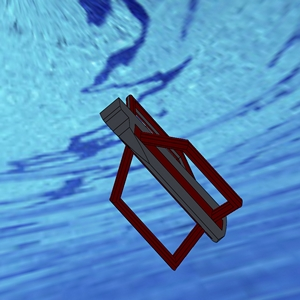submarine: (90, 81, 251, 290)
